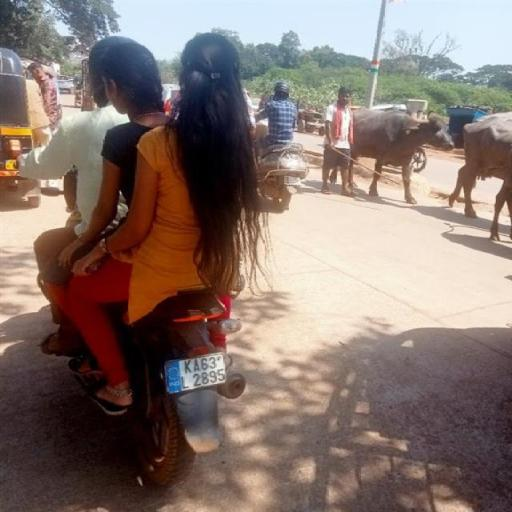tripple riding: (0, 30, 307, 284)
